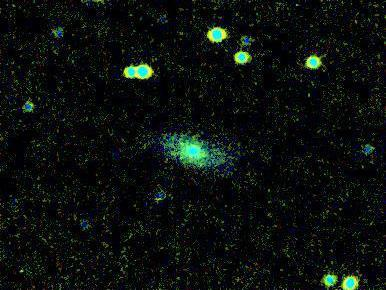star: (286, 81, 316, 111)
